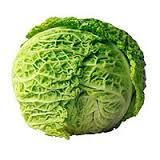cabbage: (11, 11, 149, 141)
